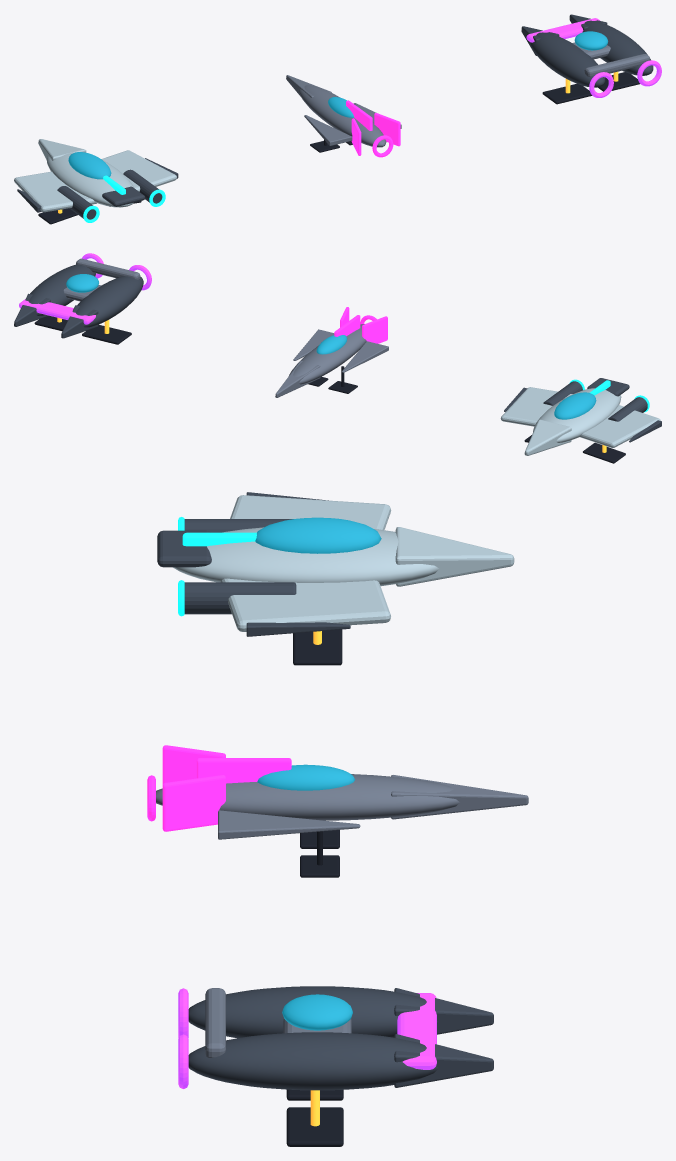
Rendered from horizon-fleet.glb.
3 renders of one model, top to bottom at view 1: azimuth 30°, elevation 25°; view 2: azimuth 150°, elevation 25°; view 3: azimuth 270°, elevation 25°, orthographic. The views are drawn at different scales.
Parts seen in each view (by area): view 1: RivalHammer_Hull_L, PlayerManta_Hull, RivalNeedle_Core, PlayerManta_Wing_L, RivalHammer_Hull_R, PlayerManta_Wing_R, PlayerManta_Canopy, RivalHammer_Tailbar, RivalHammer_Foil_L, RivalNeedle_Swept_L, RivalNeedle_Fin_R, PlayerManta_Prow (+11 smaller); view 2: RivalHammer_Hull_L, PlayerManta_Hull, PlayerManta_Wing_L, RivalNeedle_Core, PlayerManta_Wing_R, RivalHammer_Hull_R, PlayerManta_Prow, PlayerManta_Canopy, RivalHammer_Ram, RivalHammer_Tailbar, RivalNeedle_Swept_L, RivalNeedle_Fin_L (+11 smaller); view 3: RivalHammer_Hull_R, PlayerManta_Hull, RivalNeedle_Core, RivalHammer_Hull_L, PlayerManta_Wing_R, PlayerManta_Prow, PlayerManta_Canopy, PlayerManta_Wing_L, RivalNeedle_Fin_R, RivalNeedle_Swept_R, PlayerManta_Nacelle_R, RivalHammer_Foil_R (+14 smaller).
Boxes of the visible parts, <box> form: RivalHammer_Hull_L: <box>529,32,605,87</box>; PlayerManta_Hull: <box>46,152,133,207</box>; RivalNeedle_Core: <box>298,85,386,147</box>; PlayerManta_Wing_L: <box>14,171,96,212</box>; RivalHammer_Hull_R: <box>582,20,653,75</box>; PlayerManta_Wing_R: <box>101,150,176,191</box>; PlayerManta_Canopy: <box>68,152,111,179</box>; RivalHammer_Tailbar: <box>584,54,649,76</box>; RivalHammer_Foil_L: <box>542,84,592,104</box>; RivalNeedle_Swept_L: <box>304,115,352,145</box>; RivalNeedle_Fin_R: <box>374,113,400,146</box>; PlayerManta_Prow: <box>38,139,86,160</box>; RivalHammer_Hull_L: <box>76,276,143,327</box>; PlayerManta_Hull: <box>533,388,621,442</box>; PlayerManta_Wing_L: <box>580,405,660,447</box>; RivalNeedle_Core: <box>289,324,366,384</box>; PlayerManta_Wing_R: <box>500,387,572,426</box>; RivalHammer_Hull_R: <box>28,264,95,315</box>; PlayerManta_Prow: <box>524,419,571,455</box>; PlayerManta_Canopy: <box>554,392,596,419</box>; RivalHammer_Ram: <box>19,299,95,324</box>; RivalHammer_Tailbar: <box>76,258,140,279</box>; RivalNeedle_Swept_L: <box>341,341,388,372</box>; RivalNeedle_Fin_L: <box>362,316,387,343</box>; RivalHammer_Hull_R: <box>188,1032,438,1090</box>; PlayerManta_Hull: <box>173,527,439,586</box>; RivalNeedle_Core: <box>156,774,459,820</box>; RivalHammer_Hull_L: <box>188,986,438,1038</box>; PlayerManta_Wing_R: <box>221,578,390,631</box>; PlayerManta_Prow: <box>395,527,514,586</box>; PlayerManta_Canopy: <box>255,517,381,553</box>; PlayerManta_Wing_L: <box>230,495,391,529</box>; RivalNeedle_Fin_R: <box>162,775,225,831</box>; RivalNeedle_Swept_R: <box>218,810,360,839</box>; PlayerManta_Nacelle_R: <box>184,582,296,614</box>; RivalHammer_Foil_R: <box>286,1107,343,1146</box>.
Bounding box in the file's own units: 29.42 × 2.5 × 8.04.
